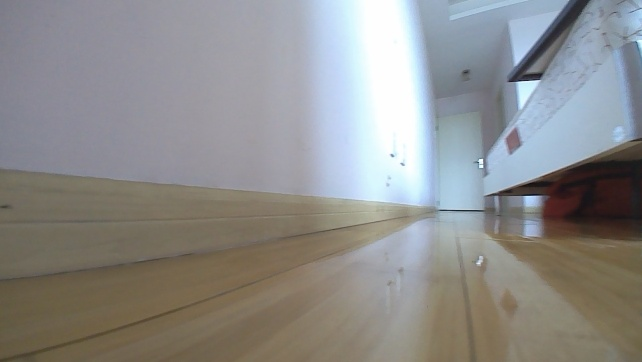bed1: (479, 0, 641, 219)
door_anno: (435, 109, 486, 214)
